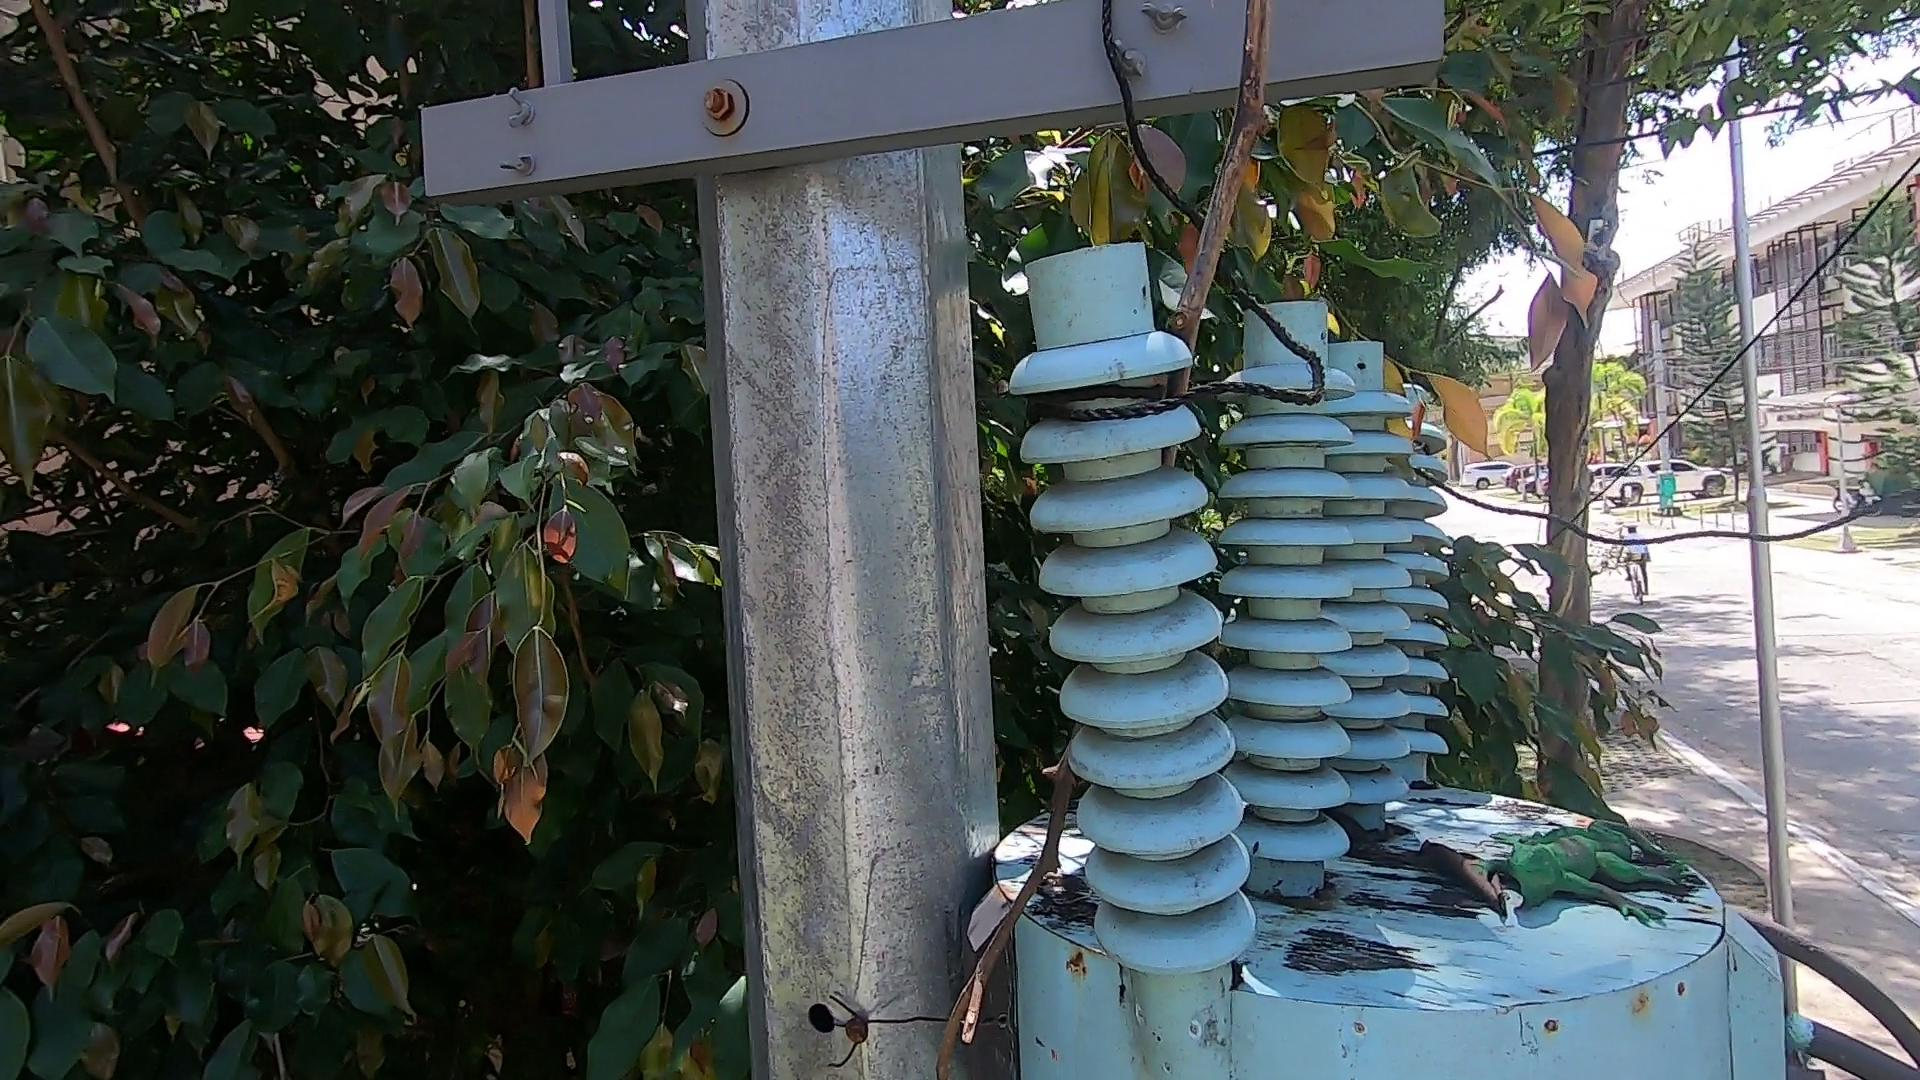branch with leaves: (1286, 285, 1526, 505)
leaf: (1414, 825, 1505, 932), (1338, 794, 1395, 860), (1035, 866, 1081, 920)
tree branch: (891, 9, 1332, 1080)
